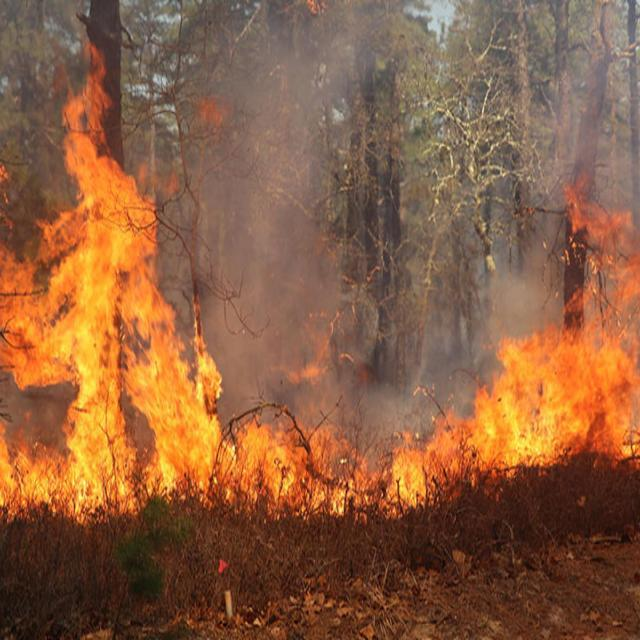Fire: (0, 58, 640, 525)
Smoke: (201, 88, 335, 413)
